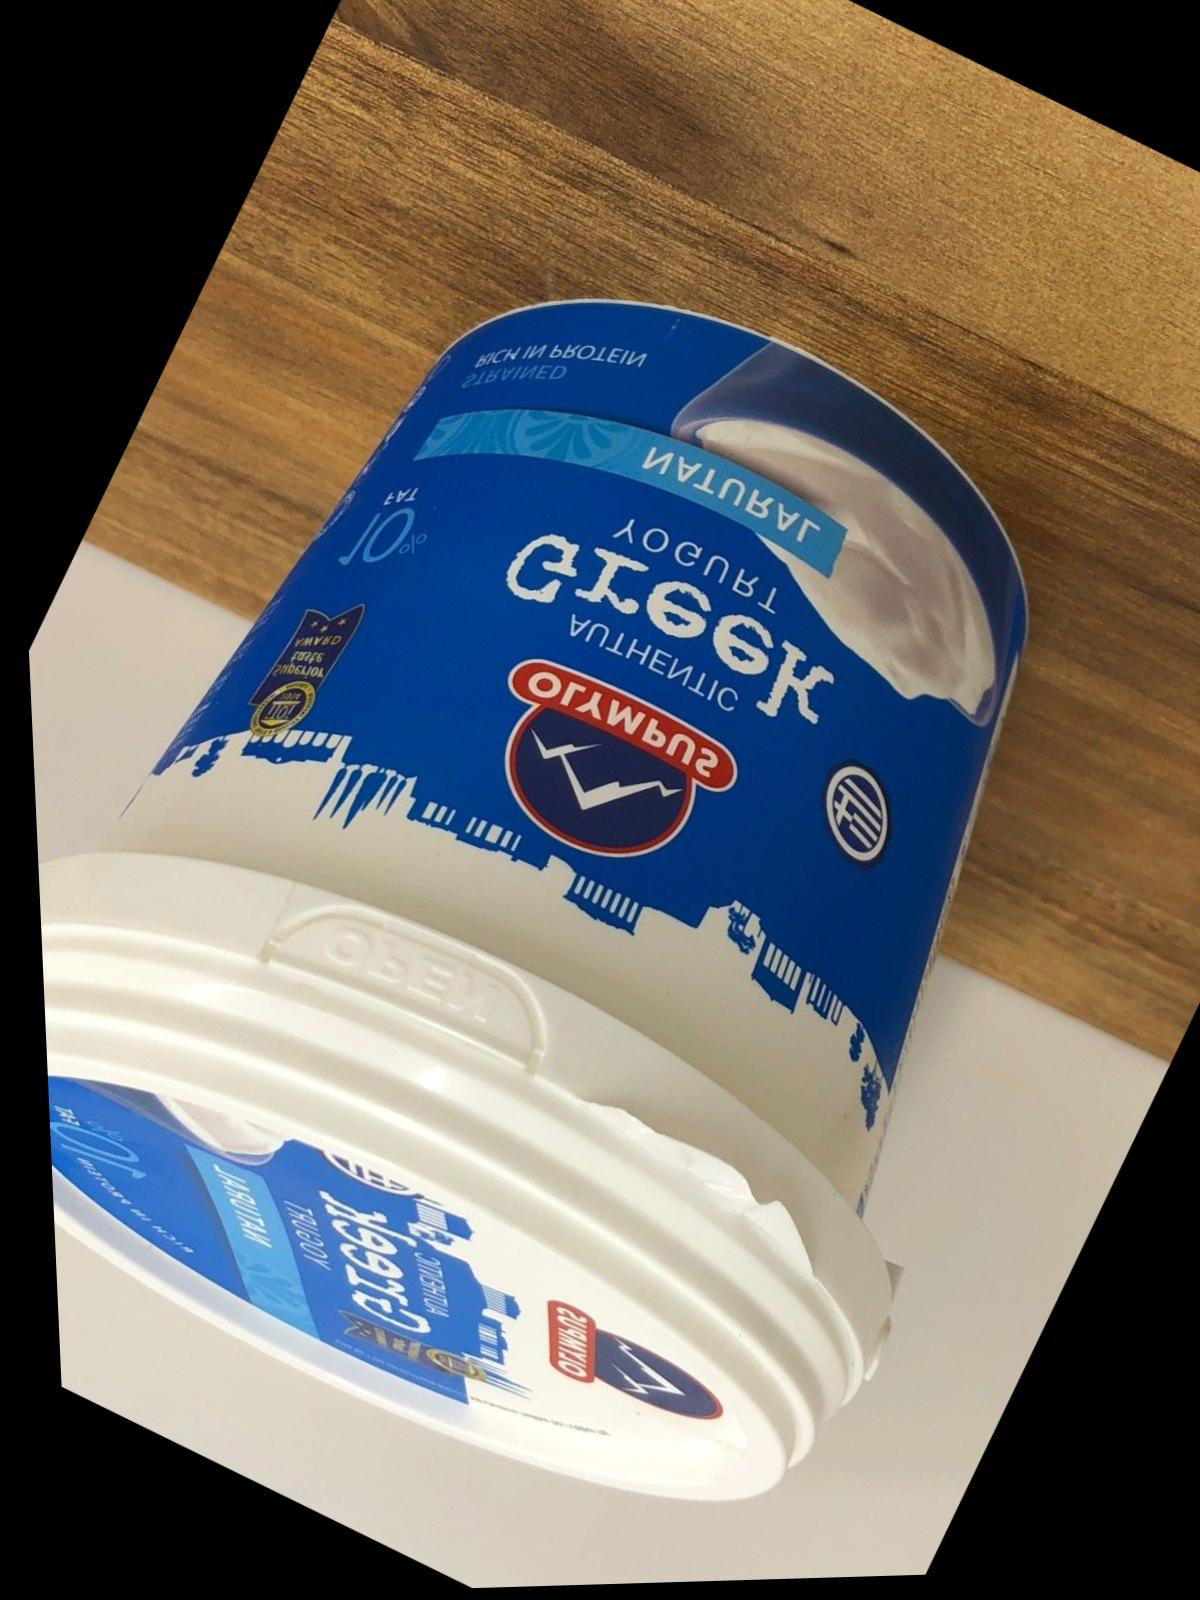plastic: (32, 0, 1199, 1599)
